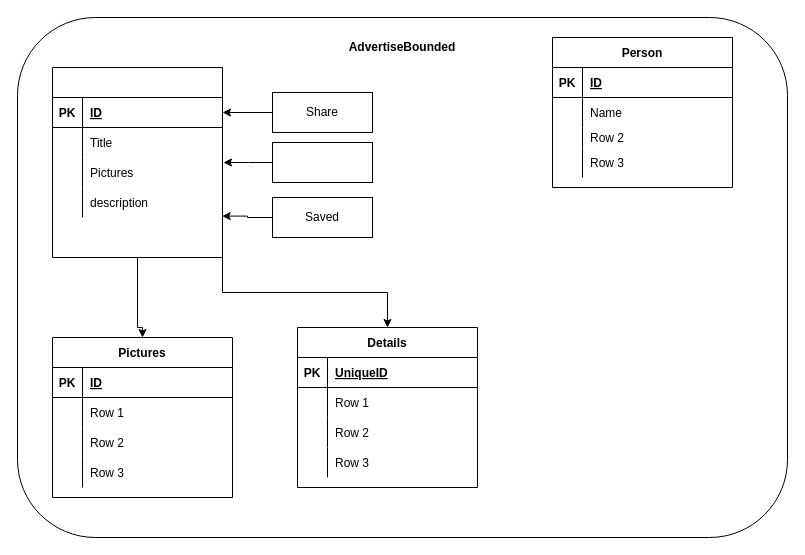
Image size: 805x555. Some labels were removed from this diagram. The box of each missing label's shape, as (x1, y1, x2, y2) in pixels:
Advertises: (52, 66, 222, 258)
Likes: (272, 142, 372, 182)
